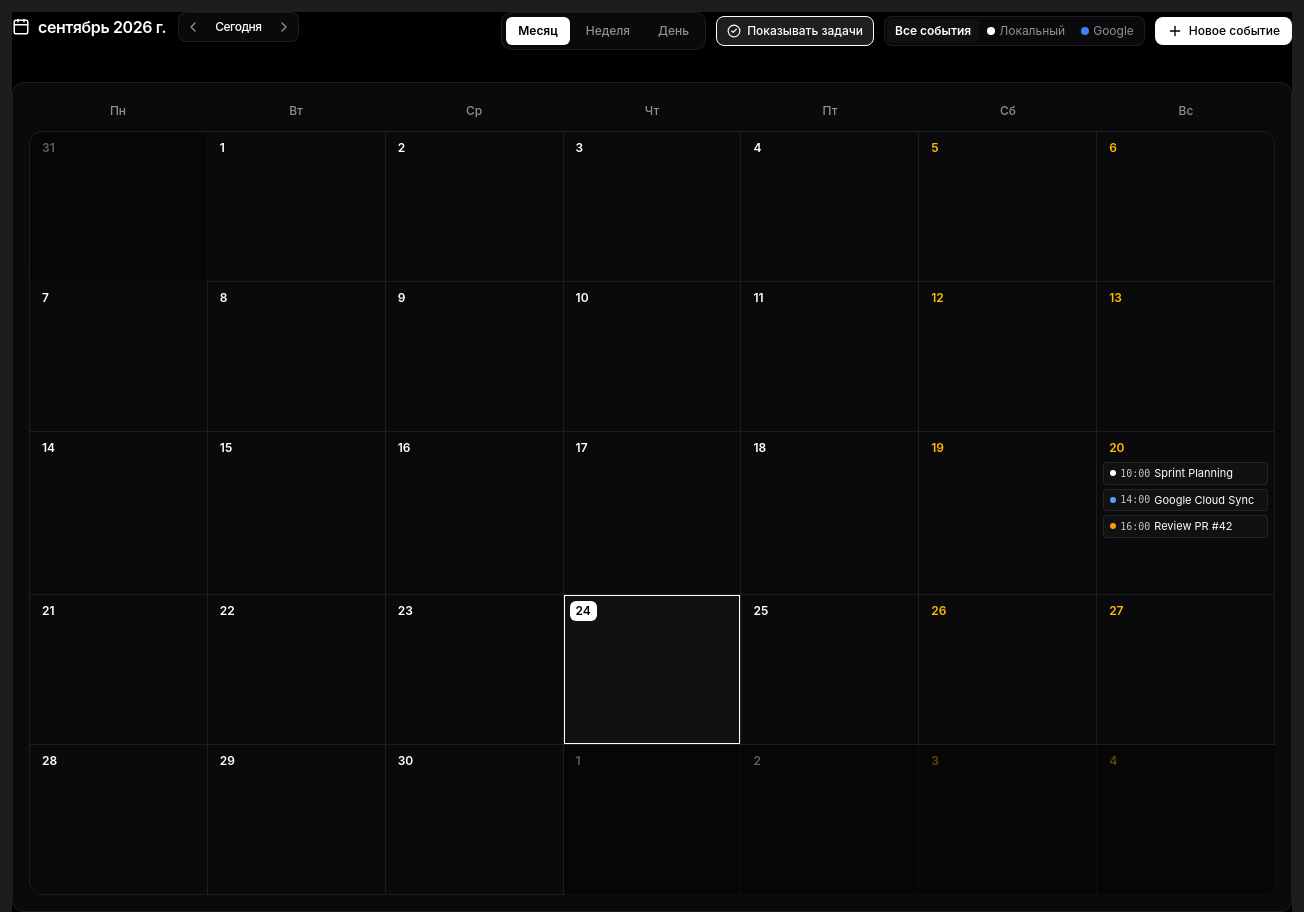
Test: CalendarView Component (Wave 8 / R18) › toggles task visibility when Show Tasks is clicked
Expected: the text "Review PR #42" is shown, top-left (1154, 518), bottom-right (1233, 535)
Click show tasks button to hide tasks
Click the button "Показывать задачи".
click(795, 31)  # box top-left (716, 16), bottom-right (874, 46)
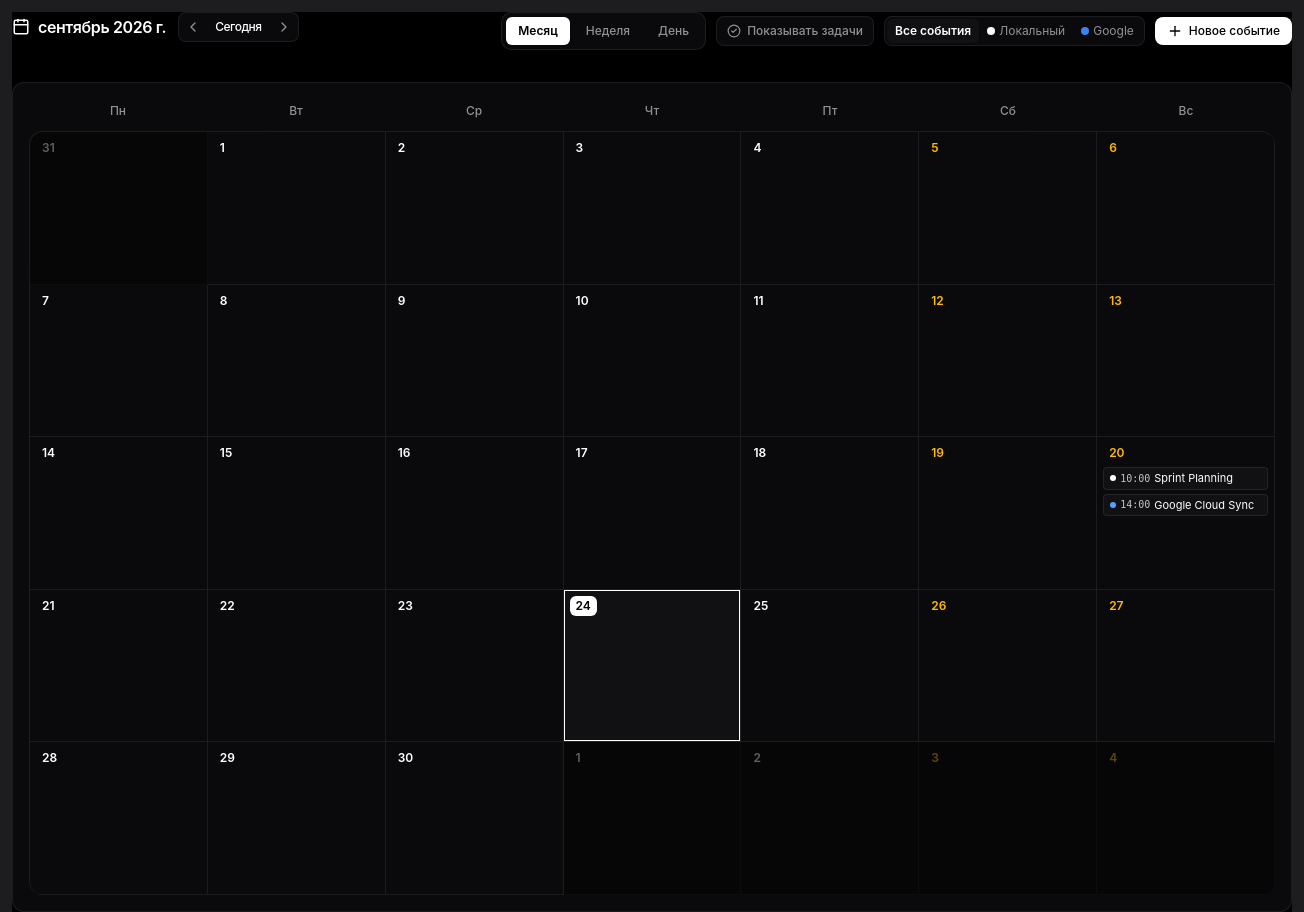
Expected: the text "Sprint Planning" is shown, top-left (1154, 470), bottom-right (1233, 487)
Now the text "Review PR #42" is gone
